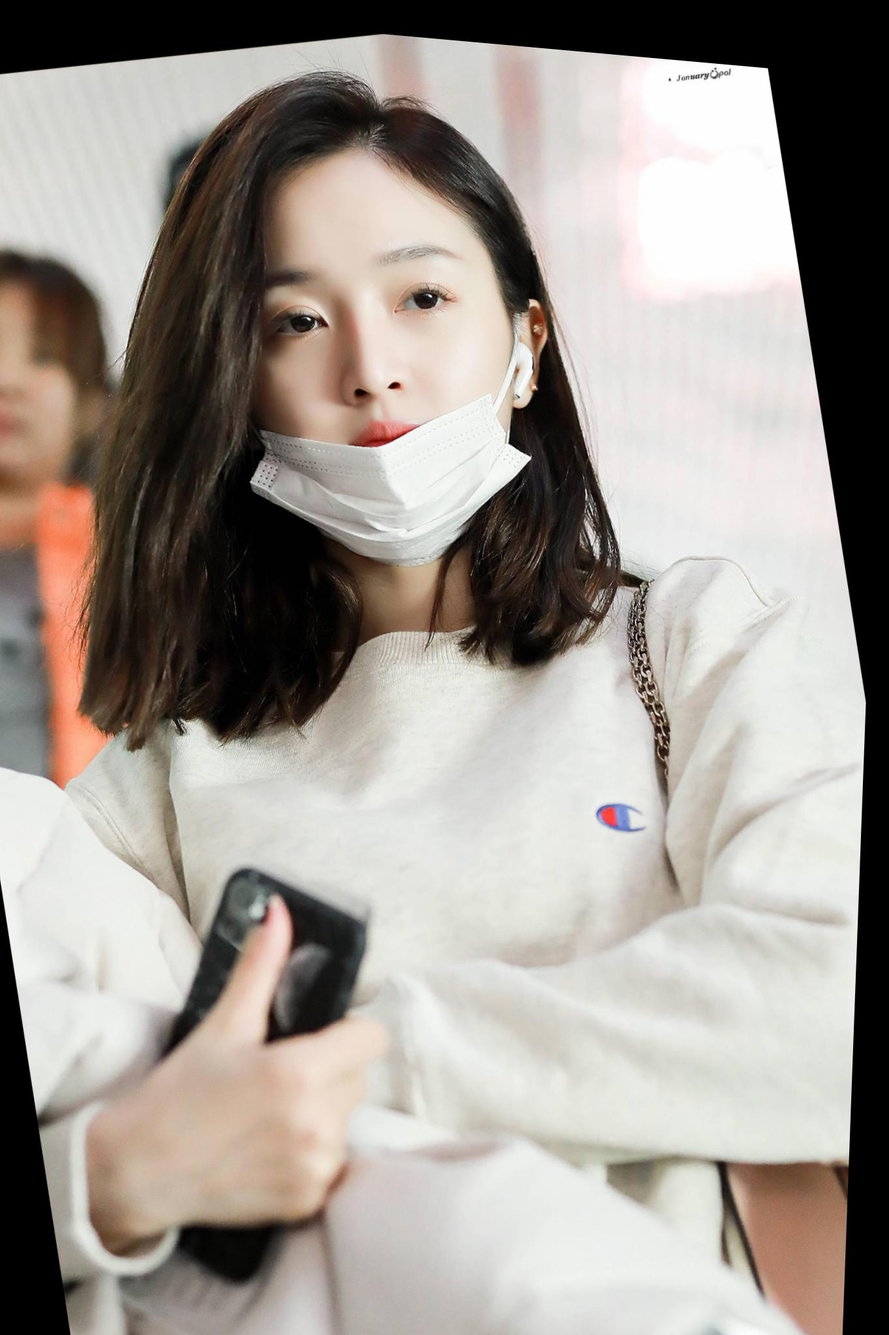WRONG: (213, 172, 546, 552), (1, 301, 100, 489)
